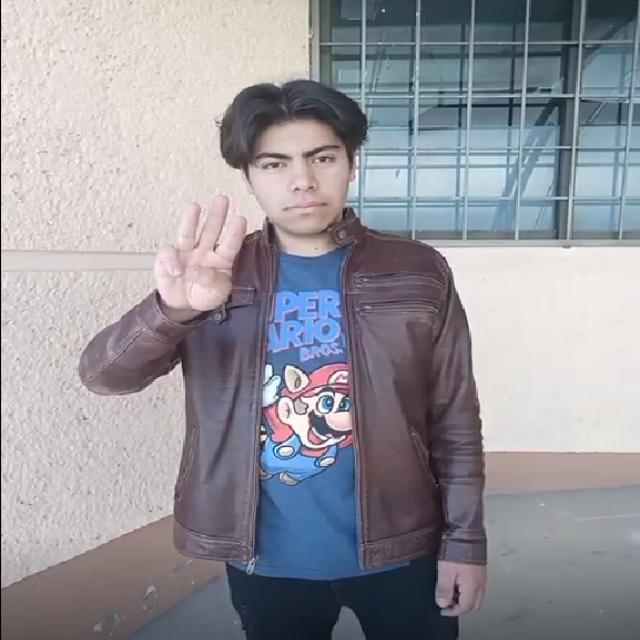W: (144, 195, 262, 314)
